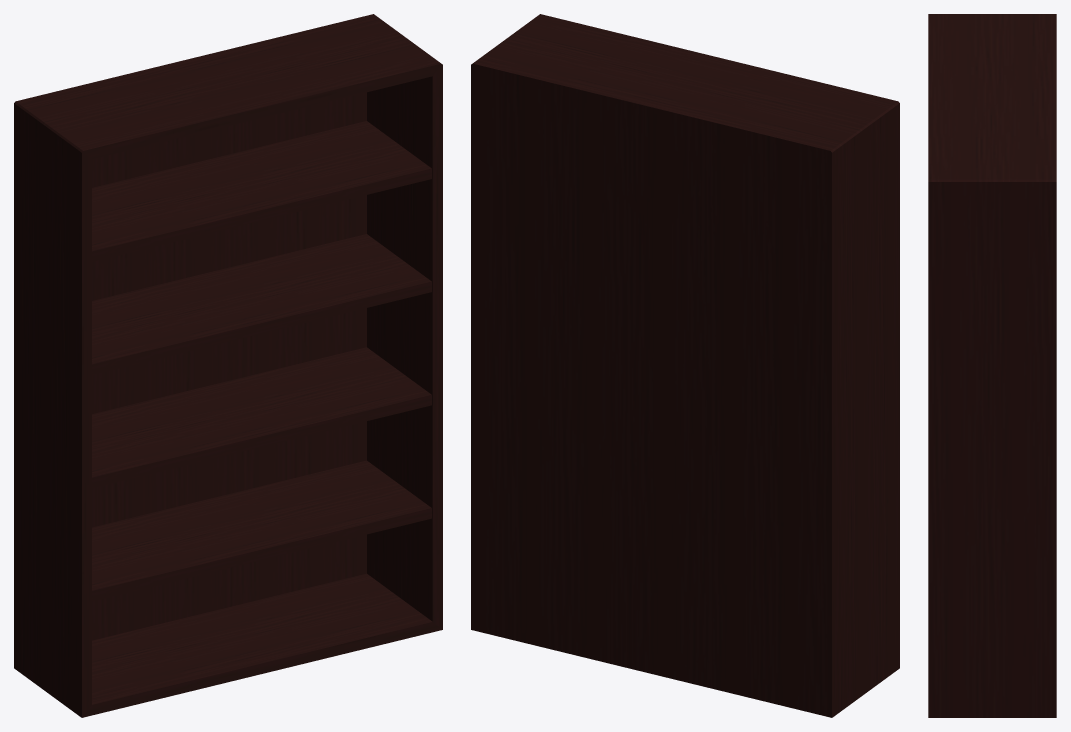
File: Bookshelf_E.FBX
3 renders of one model, left to right at view 1: azimuth 30°, elevation 25°; view 2: azimuth 150°, elevation 25°; view 3: azimuth 270°, elevation 25°, orthographic. The views are drawn at different scales.
Visible parts, largest first — view 1: Bookshelf; view 2: Bookshelf; view 3: Bookshelf.
Part boxes in pixels (box(x1,y1,x2,y2)): Bookshelf: box(14, 14, 442, 717); Bookshelf: box(471, 14, 899, 717); Bookshelf: box(928, 14, 1056, 717).
Bounding box in the file's own units: 200 × 300 × 65.
